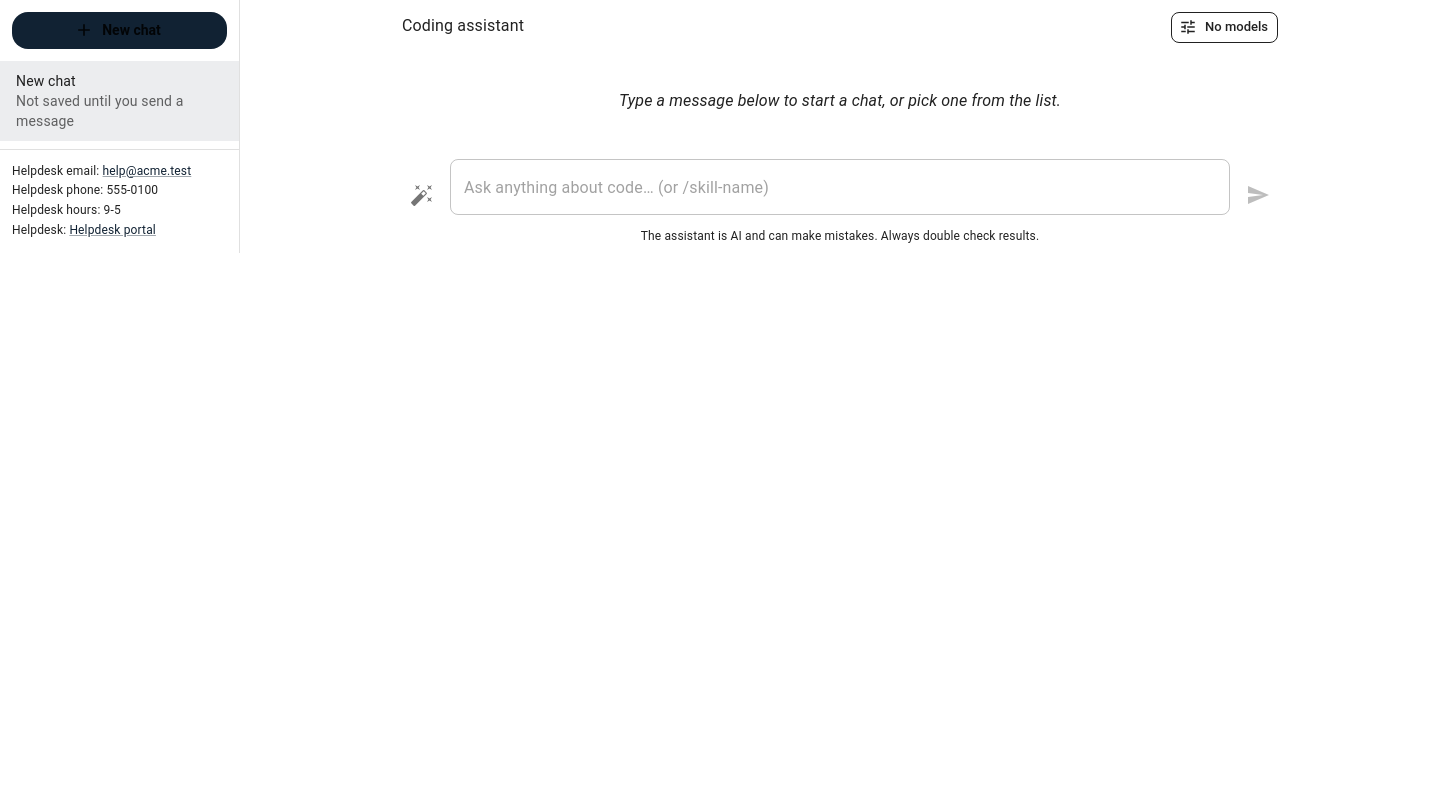
web search (chat toggle) › is disabled when {"allowed":false}
This screenshot has width=1440, height=810.
What coordinates should you click on to do the following:
click the button with aria-label "Model:"
I would click on:
 (1224, 27)
Its box is [1171,12,1278,43].
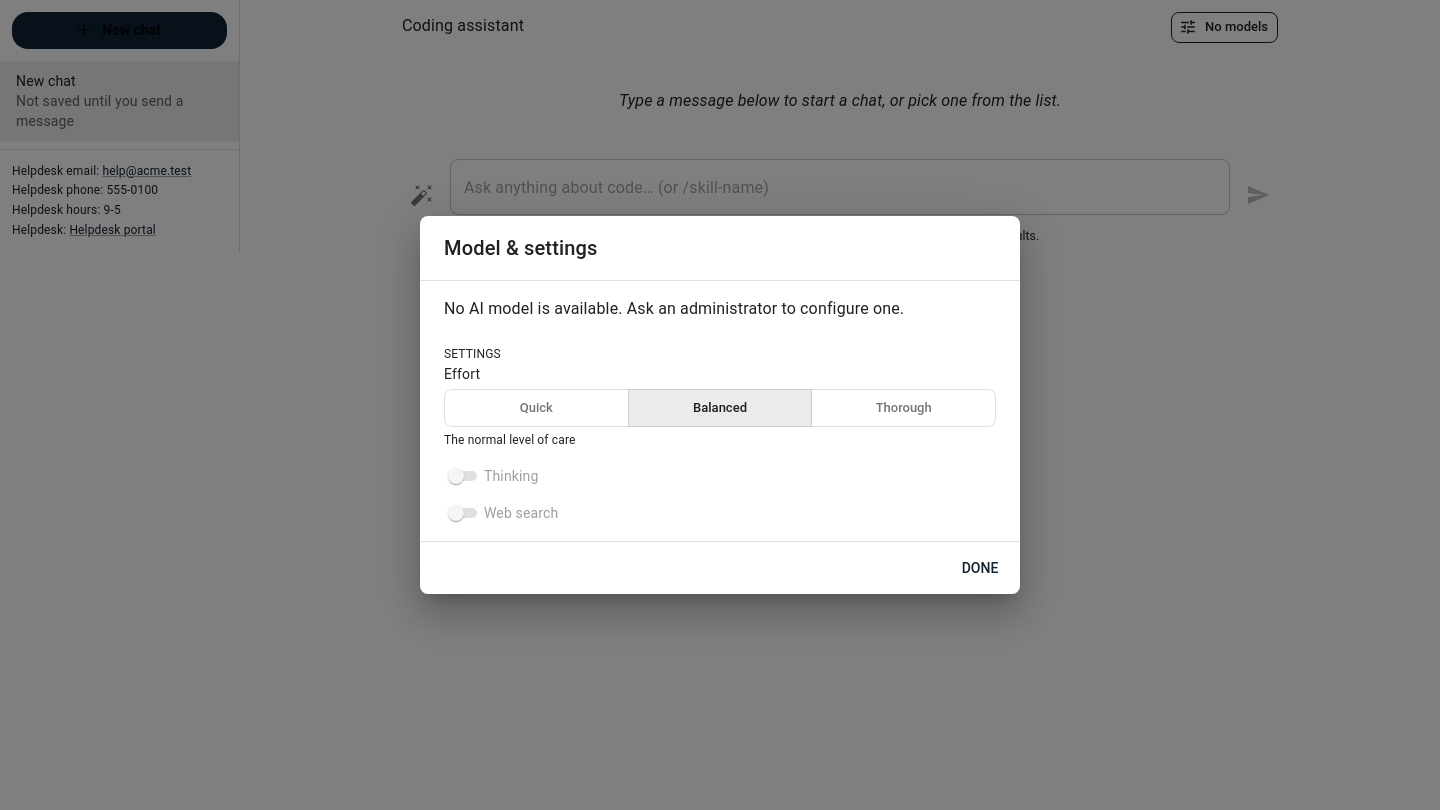
Expected: the switch labelled "Web search" is disabled, [444,501,558,525]
